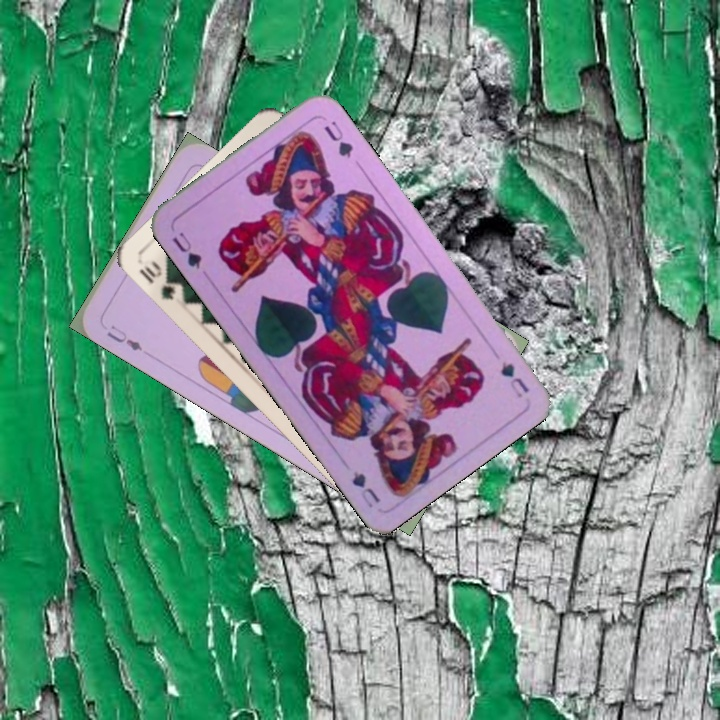EU: (103, 320, 145, 354)
G10: (134, 256, 180, 303)
GU: (168, 228, 205, 271), (496, 357, 532, 401)
